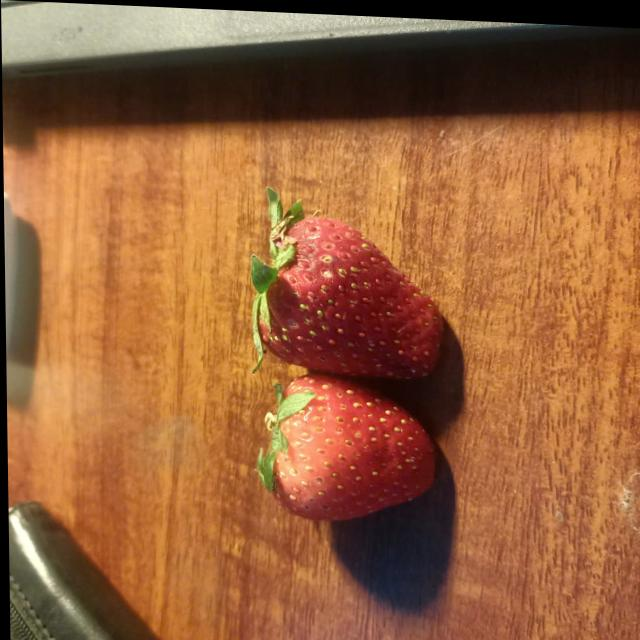DauTay: (227, 176, 467, 402), (243, 365, 444, 538)
